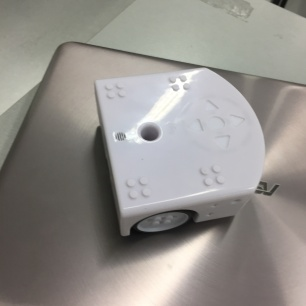thymio: (85, 66, 269, 239)
